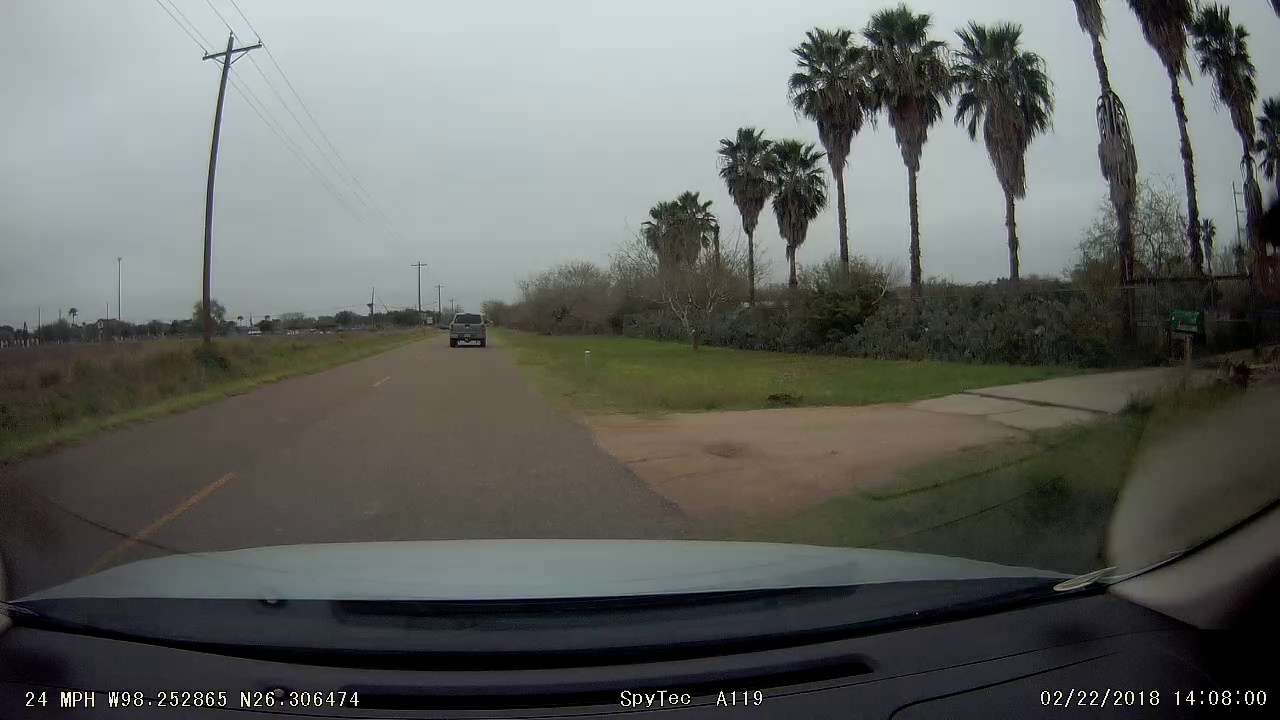blurredLine: (370, 374, 407, 390)
